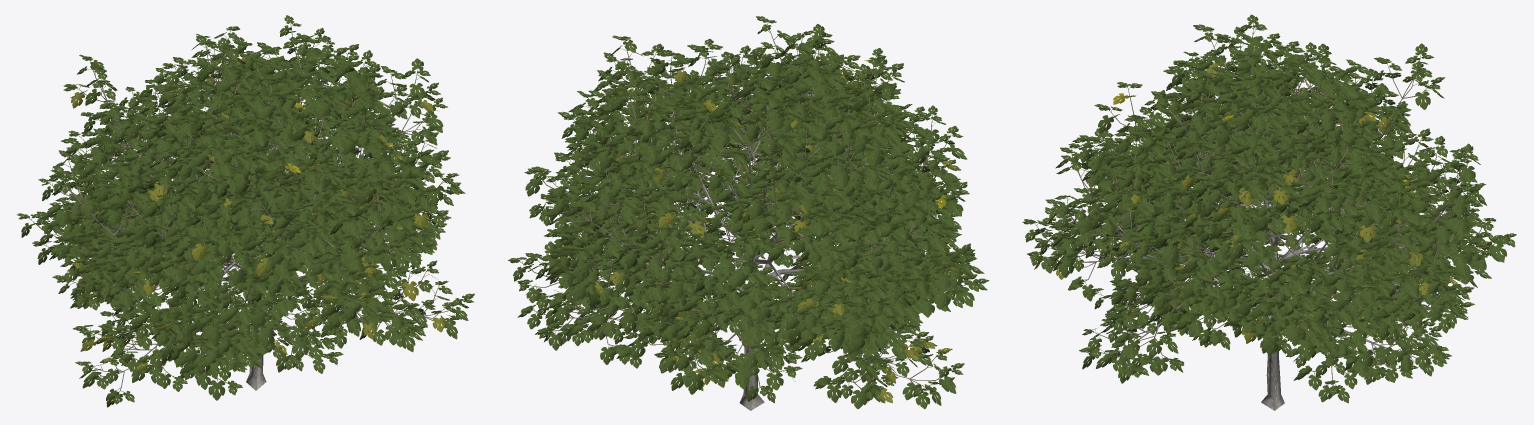
The model's file is Ficus carica HD_Standard no fruit mat 75_LOD3.fbx.
3 renders of one model, left to right at view 1: azimuth 30°, elevation 25°; view 2: azimuth 150°, elevation 25°; view 3: azimuth 270°, elevation 25°, orthographic. The views are drawn at different scales.
Parts seen in each view (by area): view 1: Ficus_carica_HD; view 2: Ficus_carica_HD; view 3: Ficus_carica_HD.
Part boxes in pixels (box(x1,y1,x2,y2)): Ficus_carica_HD: box(17, 15, 474, 407); Ficus_carica_HD: box(508, 16, 989, 410); Ficus_carica_HD: box(1022, 14, 1516, 410).
Bounding box in the file's own units: 4.92 × 4.19 × 5.19.
10 materials, 10 textured.
